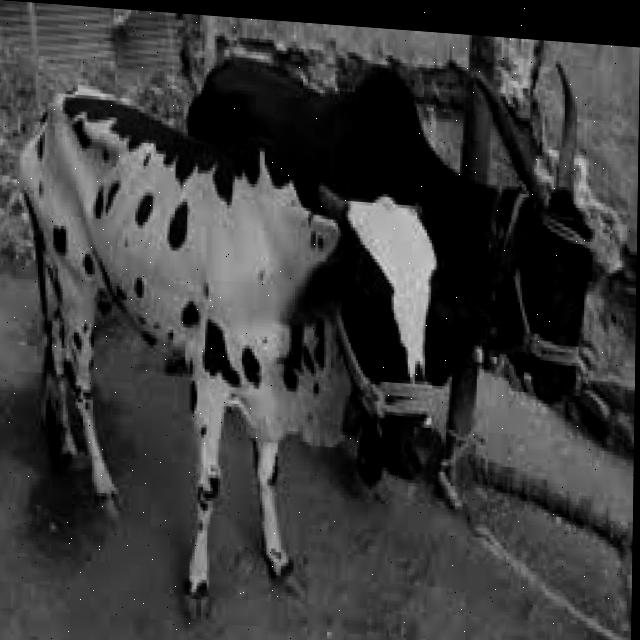Cow: (8, 77, 419, 635)
